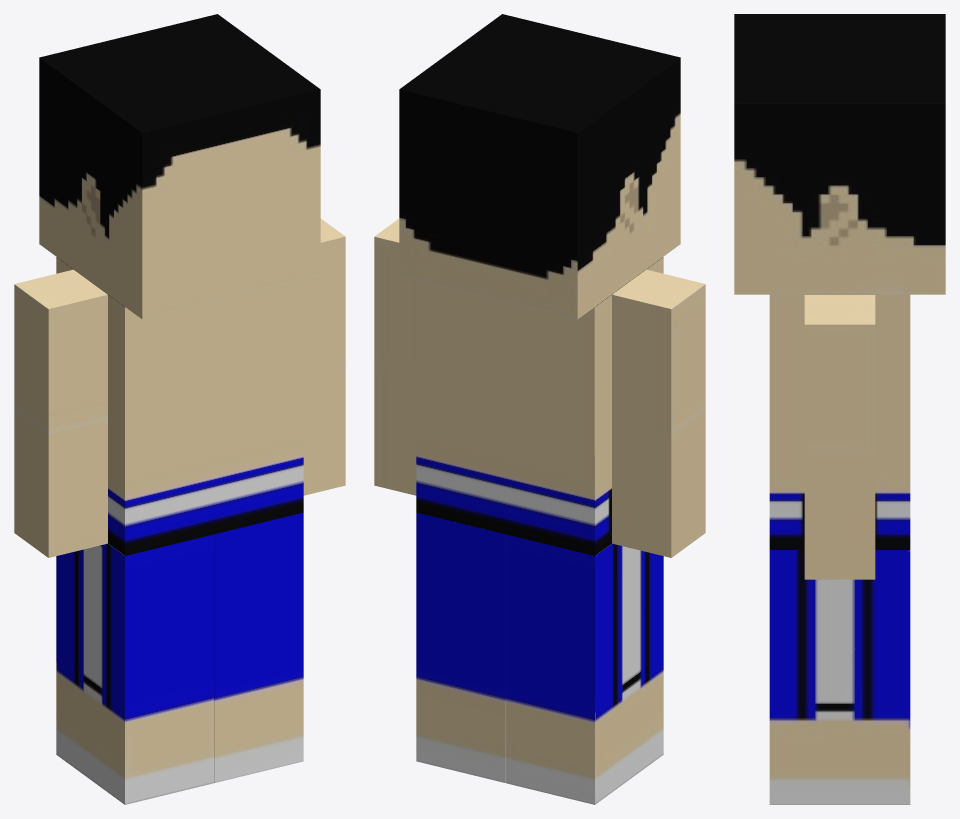
The model's file is HEW_chara_boxer_base.fbx.
3 views of the same model, side by side, from view 1: azimuth 30°, elevation 25°; view 2: azimuth 150°, elevation 25°; view 3: azimuth 270°, elevation 25° (orthographic). The views are drawn at different scales.
Parts seen in each view (by area): view 1: polySurface8, polySurface7, polySurface6, polySurface2, polySurface4, polySurface3, polySurface5, polySurface1; view 2: polySurface8, polySurface7, polySurface6, polySurface2, polySurface4, polySurface3, polySurface5, polySurface1; view 3: polySurface8, polySurface2, polySurface7, polySurface1, polySurface5.
Part boxes in pixels (x1,y1,x2,y2): polySurface8: (39, 14, 320, 319); polySurface7: (56, 257, 303, 555); polySurface6: (56, 534, 213, 804); polySurface2: (214, 512, 303, 782); polySurface4: (14, 269, 107, 433); polySurface3: (14, 409, 107, 557); polySurface5: (303, 361, 345, 495); polySurface1: (303, 218, 345, 371); polySurface8: (399, 14, 680, 319); polySurface7: (416, 257, 663, 555); polySurface6: (506, 534, 663, 804); polySurface2: (416, 512, 505, 782); polySurface4: (612, 269, 705, 433); polySurface3: (612, 409, 705, 557); polySurface5: (374, 361, 416, 495); polySurface1: (374, 218, 416, 371); polySurface8: (734, 14, 945, 294); polySurface2: (769, 550, 910, 804); polySurface7: (769, 294, 910, 549); polySurface1: (804, 295, 875, 451); polySurface5: (804, 452, 875, 579).
Size of the model in its own units: 12.5 by 27.51 by 7.5.
